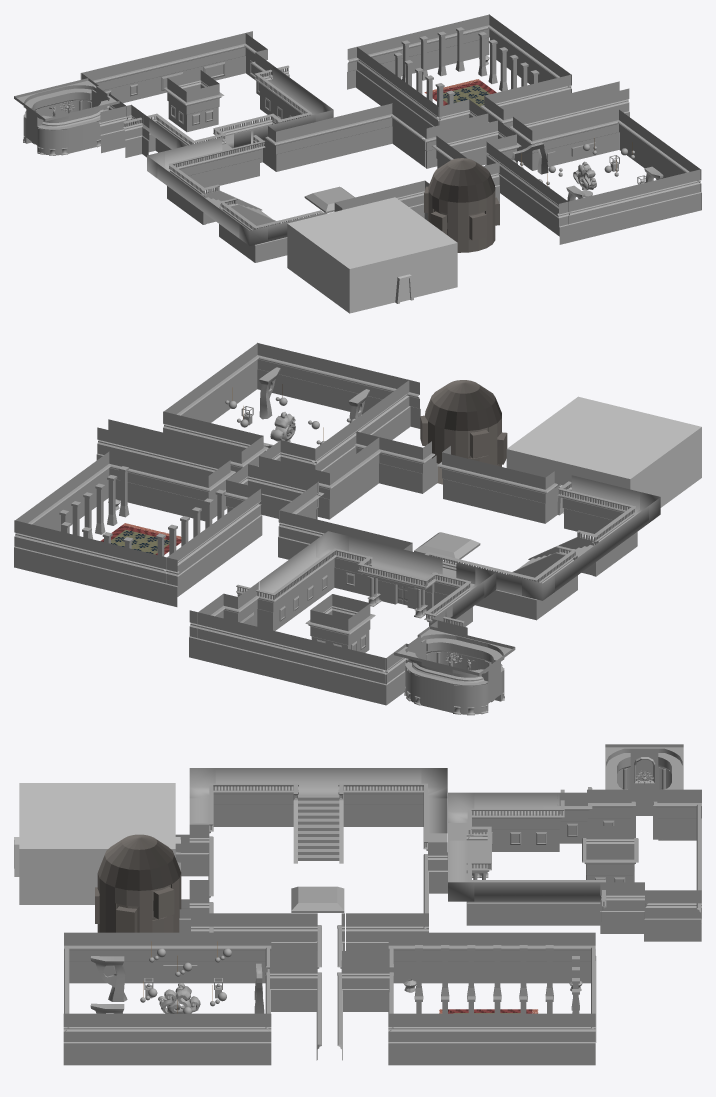
The model's file is Halls.fbx.
The picture shows the model from 3 angles, top to bottom: view 1: azimuth 30°, elevation 25°; view 2: azimuth 150°, elevation 25°; view 3: azimuth 270°, elevation 25°; orthographic projection. The views are drawn at different scales.
Visible parts, largest first — view 1: polySurface1; view 2: polySurface1; view 3: polySurface1.
Boxes of the visible parts, <box> form: polySurface1: <box>14,14,701,313</box>; polySurface1: <box>14,342,701,715</box>; polySurface1: <box>14,744,701,1065</box>.
Size of the model in its own units: 78 by 12.63 by 78.93.
